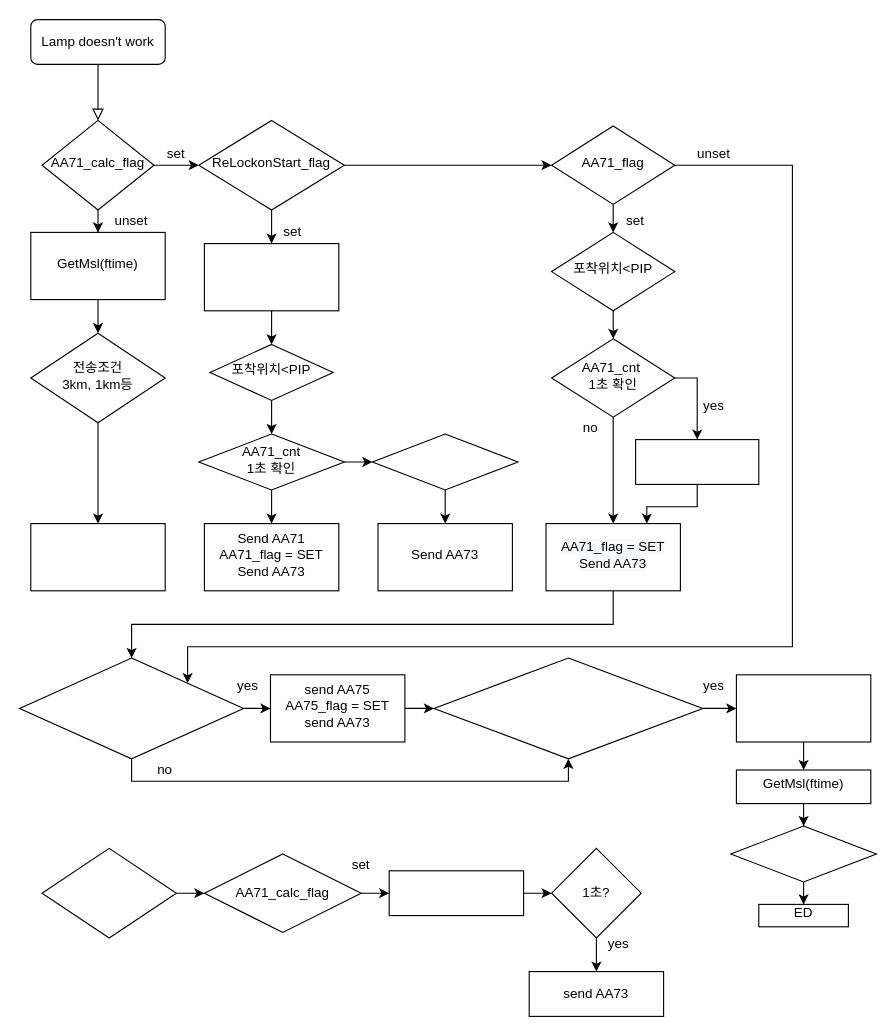
Some shapes in this 896 by 1036 pixel diagram are drawn without their labels. The box of each missing label's shape, as (x1, y1, x2, y2) in pixels:
500m< & tgt_meas>0: (41, 847, 176, 938)
AA71 정보 채움 AA71_calc_flag = SET: (30, 522, 165, 591)
AA71_flag == SET & AA75_flag == SET & BB91_flag == SET & A1_flag == SET: (433, 657, 703, 759)
AA71_flag == SET & AA75_flag == UNSET & BB91_resp_flag ==SET: (18, 657, 244, 759)
AA73 채우기: (388, 870, 524, 916)
AA73_cnt 1초 확인: (371, 433, 518, 490)
GetMsl(ftime) AA71 정보 채움: (203, 242, 339, 311)
Send AA71: (634, 438, 759, 484)
send AA75 send AA73 AA75_flag = SET A1_flag = UNSET: (735, 674, 871, 742)
포착제한거리?: (730, 825, 876, 882)
